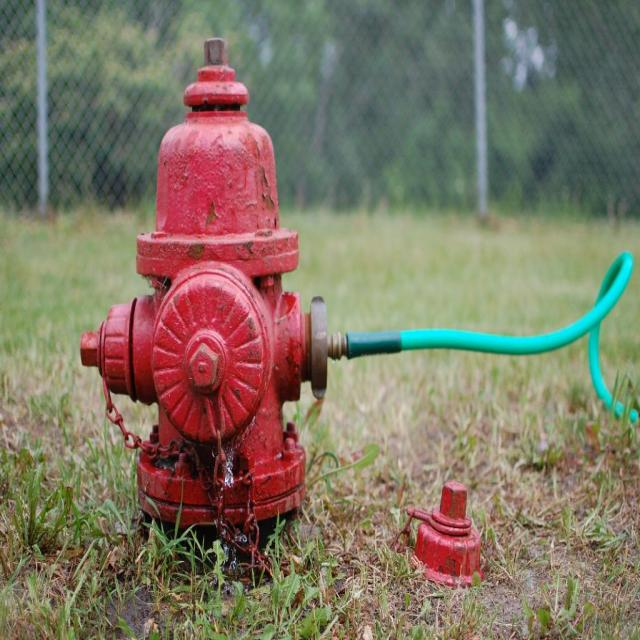fire_hydrant: (81, 39, 349, 570)
